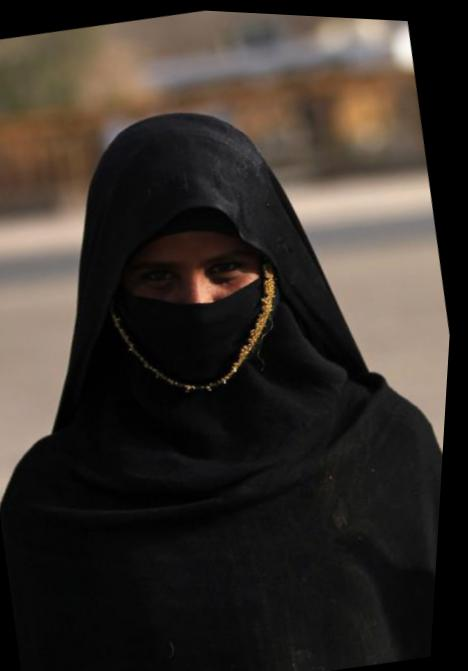WRONG: (100, 213, 290, 406)
